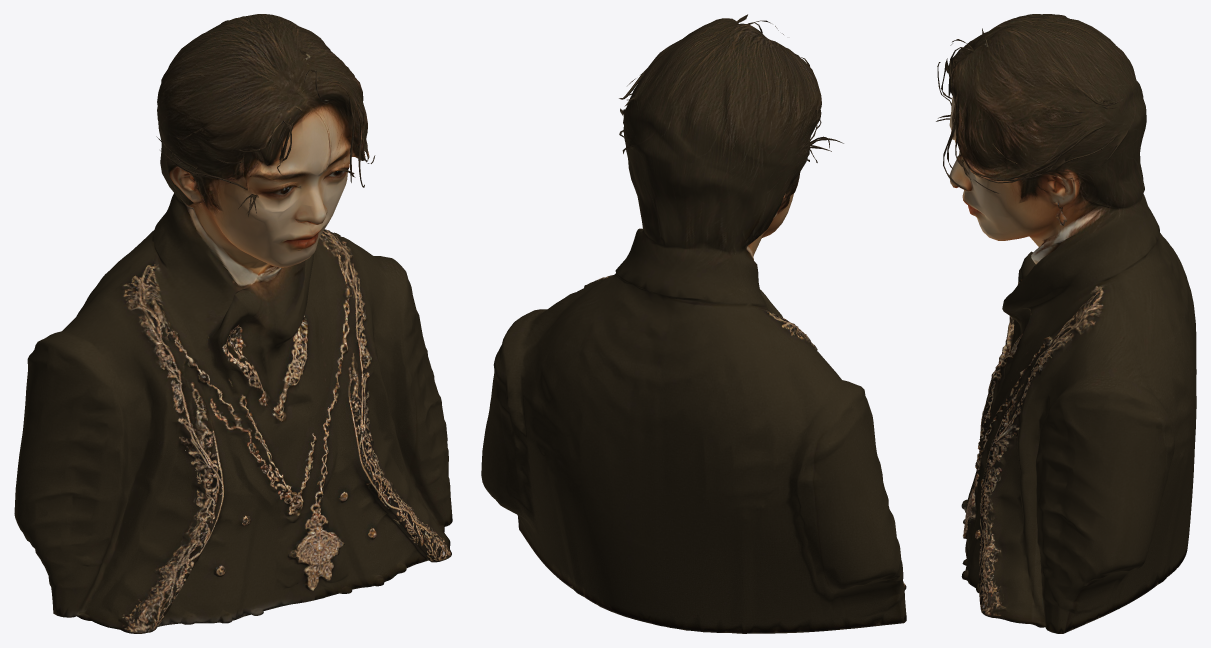
The picture shows the model from 3 angles, left to right: view 1: azimuth 30°, elevation 25°; view 2: azimuth 150°, elevation 25°; view 3: azimuth 270°, elevation 25°; orthographic projection. The views are drawn at different scales.
Visible parts, largest first — view 1: tripo_node_5a8c8f96-4d43-48f7-b8a3-ed734b7f2a83; view 2: tripo_node_5a8c8f96-4d43-48f7-b8a3-ed734b7f2a83; view 3: tripo_node_5a8c8f96-4d43-48f7-b8a3-ed734b7f2a83.
Part boxes in pixels (<box>): tripo_node_5a8c8f96-4d43-48f7-b8a3-ed734b7f2a83: <box>14,14,452,633</box>; tripo_node_5a8c8f96-4d43-48f7-b8a3-ed734b7f2a83: <box>481,14,906,633</box>; tripo_node_5a8c8f96-4d43-48f7-b8a3-ed734b7f2a83: <box>936,14,1196,633</box>.
Size of the model in its own units: 0.7952 by 0.9985 by 0.4512.
Materials: 1 (1 with a texture image).
